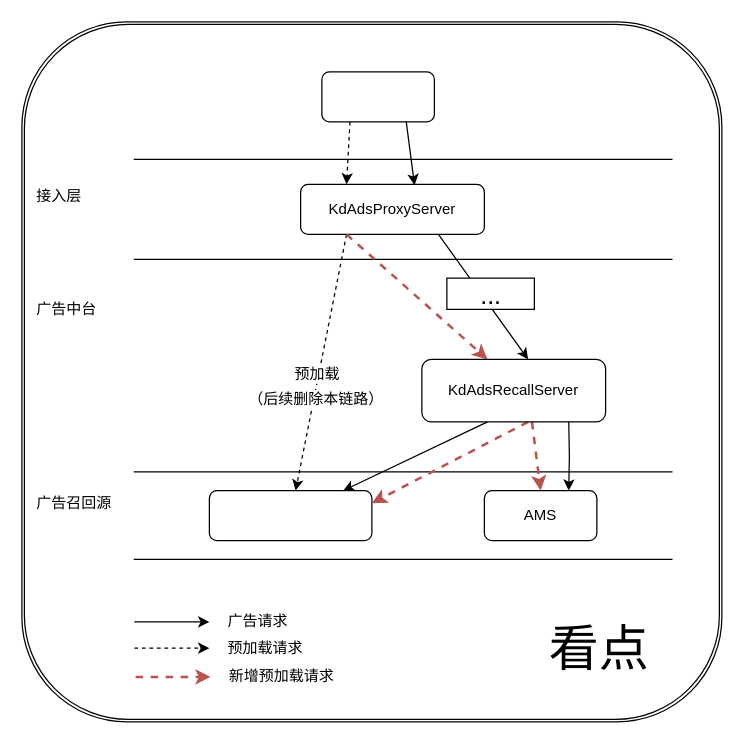
Image size: 744x744. Some labels were removed from this diagram. Here are the shapes that lost their labels. From the top down, the box of each, then its label:
(321, 71, 434, 122): 终端
(208, 489, 372, 541): BAdsAdRecallServer
